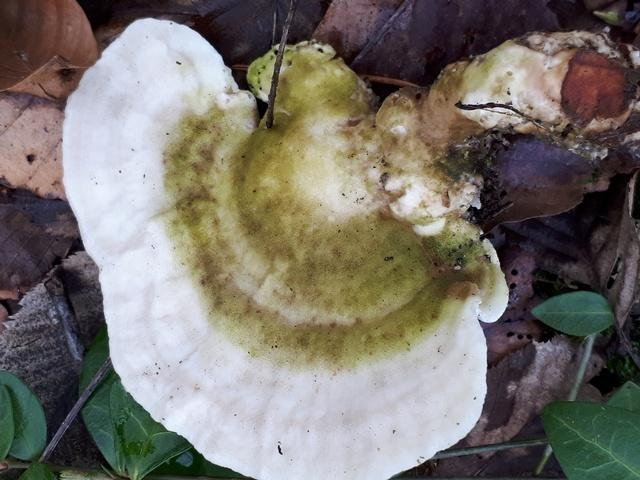poisonous_mushroom: (60, 16, 510, 477)
